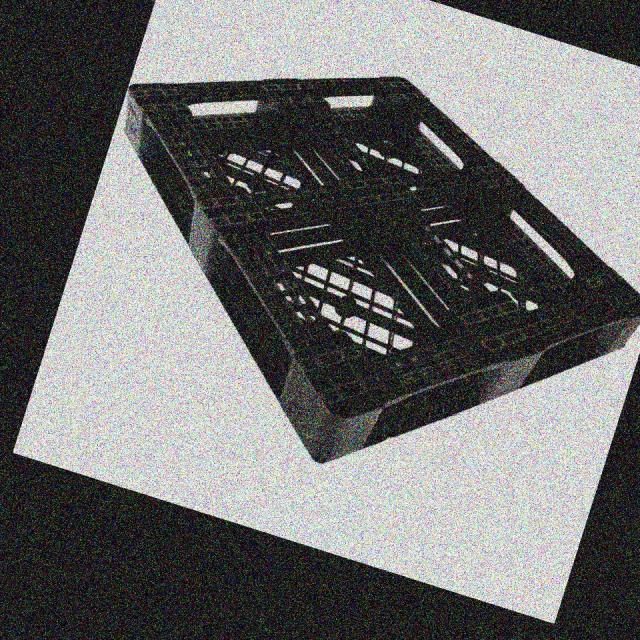non-igps: (119, 72, 640, 470)
